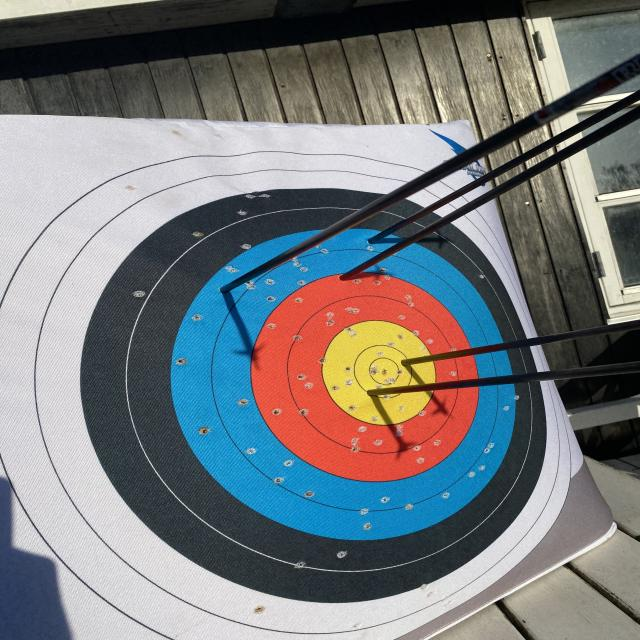Arrow_Blue: (206, 273, 251, 307), (363, 228, 389, 254)
Arrow_Red: (330, 269, 360, 291)
Arrow_Yellow: (354, 381, 390, 406), (395, 348, 422, 374)
